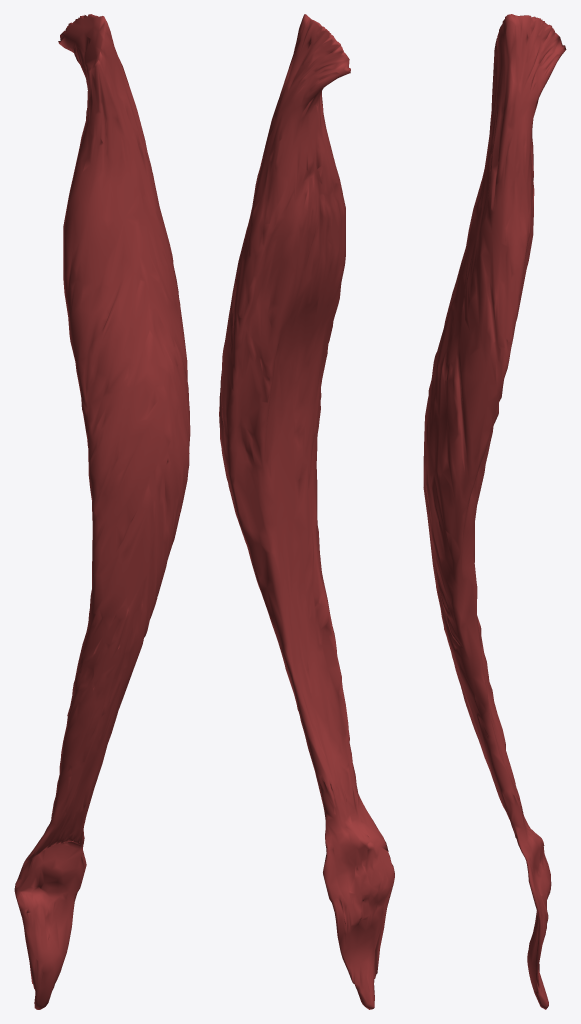
The model's file is rectus-femoris-muscle-l.glb.
The picture shows the model from 3 angles, left to right: view 1: azimuth 30°, elevation 25°; view 2: azimuth 210°, elevation 25°; view 3: azimuth 270°, elevation 25°; orthographic projection. The views are drawn at different scales.
Visible parts, largest first — view 1: Rectus femoris muscle.l; view 2: Rectus femoris muscle.l; view 3: Rectus femoris muscle.l.
Part boxes in pixels (x1,y1,x2,y2): Rectus femoris muscle.l: (14, 14, 190, 1009); Rectus femoris muscle.l: (219, 14, 394, 1009); Rectus femoris muscle.l: (423, 14, 566, 1009).
Bounding box in the file's own units: 0.0816 × 0.5453 × 0.0694.
